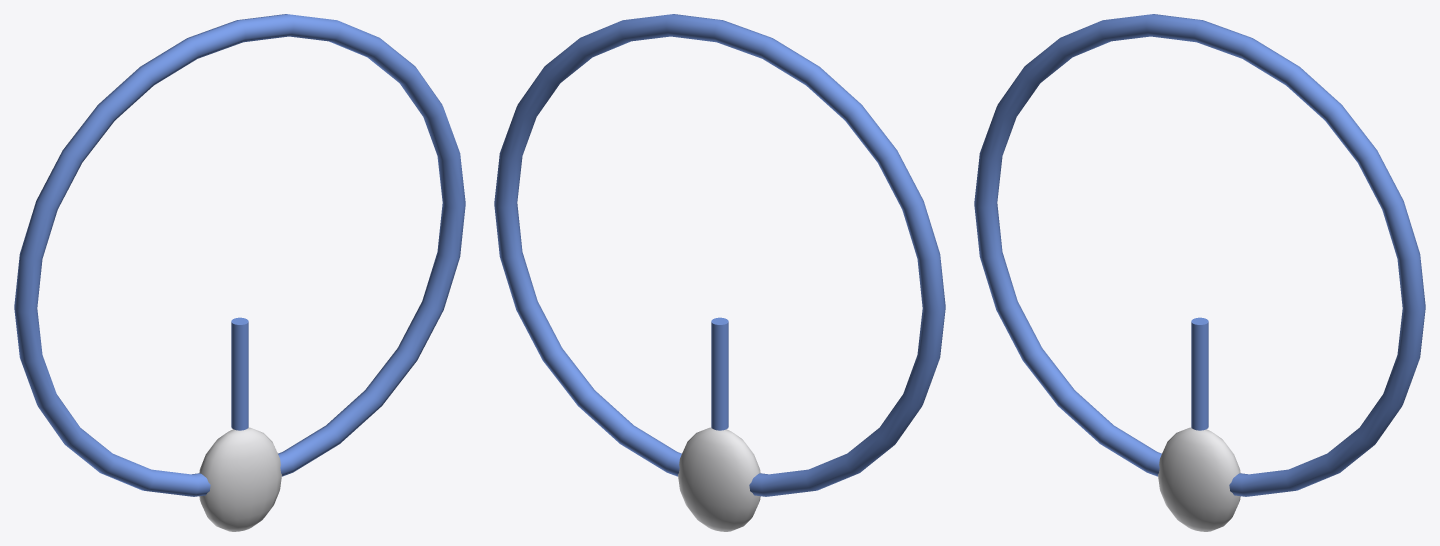
The model's file is VM-CAB-SH39710722.glb.
3 renders of one model, left to right at view 1: azimuth 30°, elevation 25°; view 2: azimuth 150°, elevation 25°; view 3: azimuth 330°, elevation 25°, orthographic.
Parts seen in each view (by area): view 1: Collar Unisex de Circonita Bicolor; view 2: Collar Unisex de Circonita Bicolor; view 3: Collar Unisex de Circonita Bicolor.
Boxes of the visible parts, box(x1,y1,x2,y2) form: Collar Unisex de Circonita Bicolor: box(14, 14, 465, 531); Collar Unisex de Circonita Bicolor: box(494, 14, 945, 531); Collar Unisex de Circonita Bicolor: box(974, 14, 1425, 531).
Size of the model in its own units: 0.1809 by 0.1964 by 0.0179.
